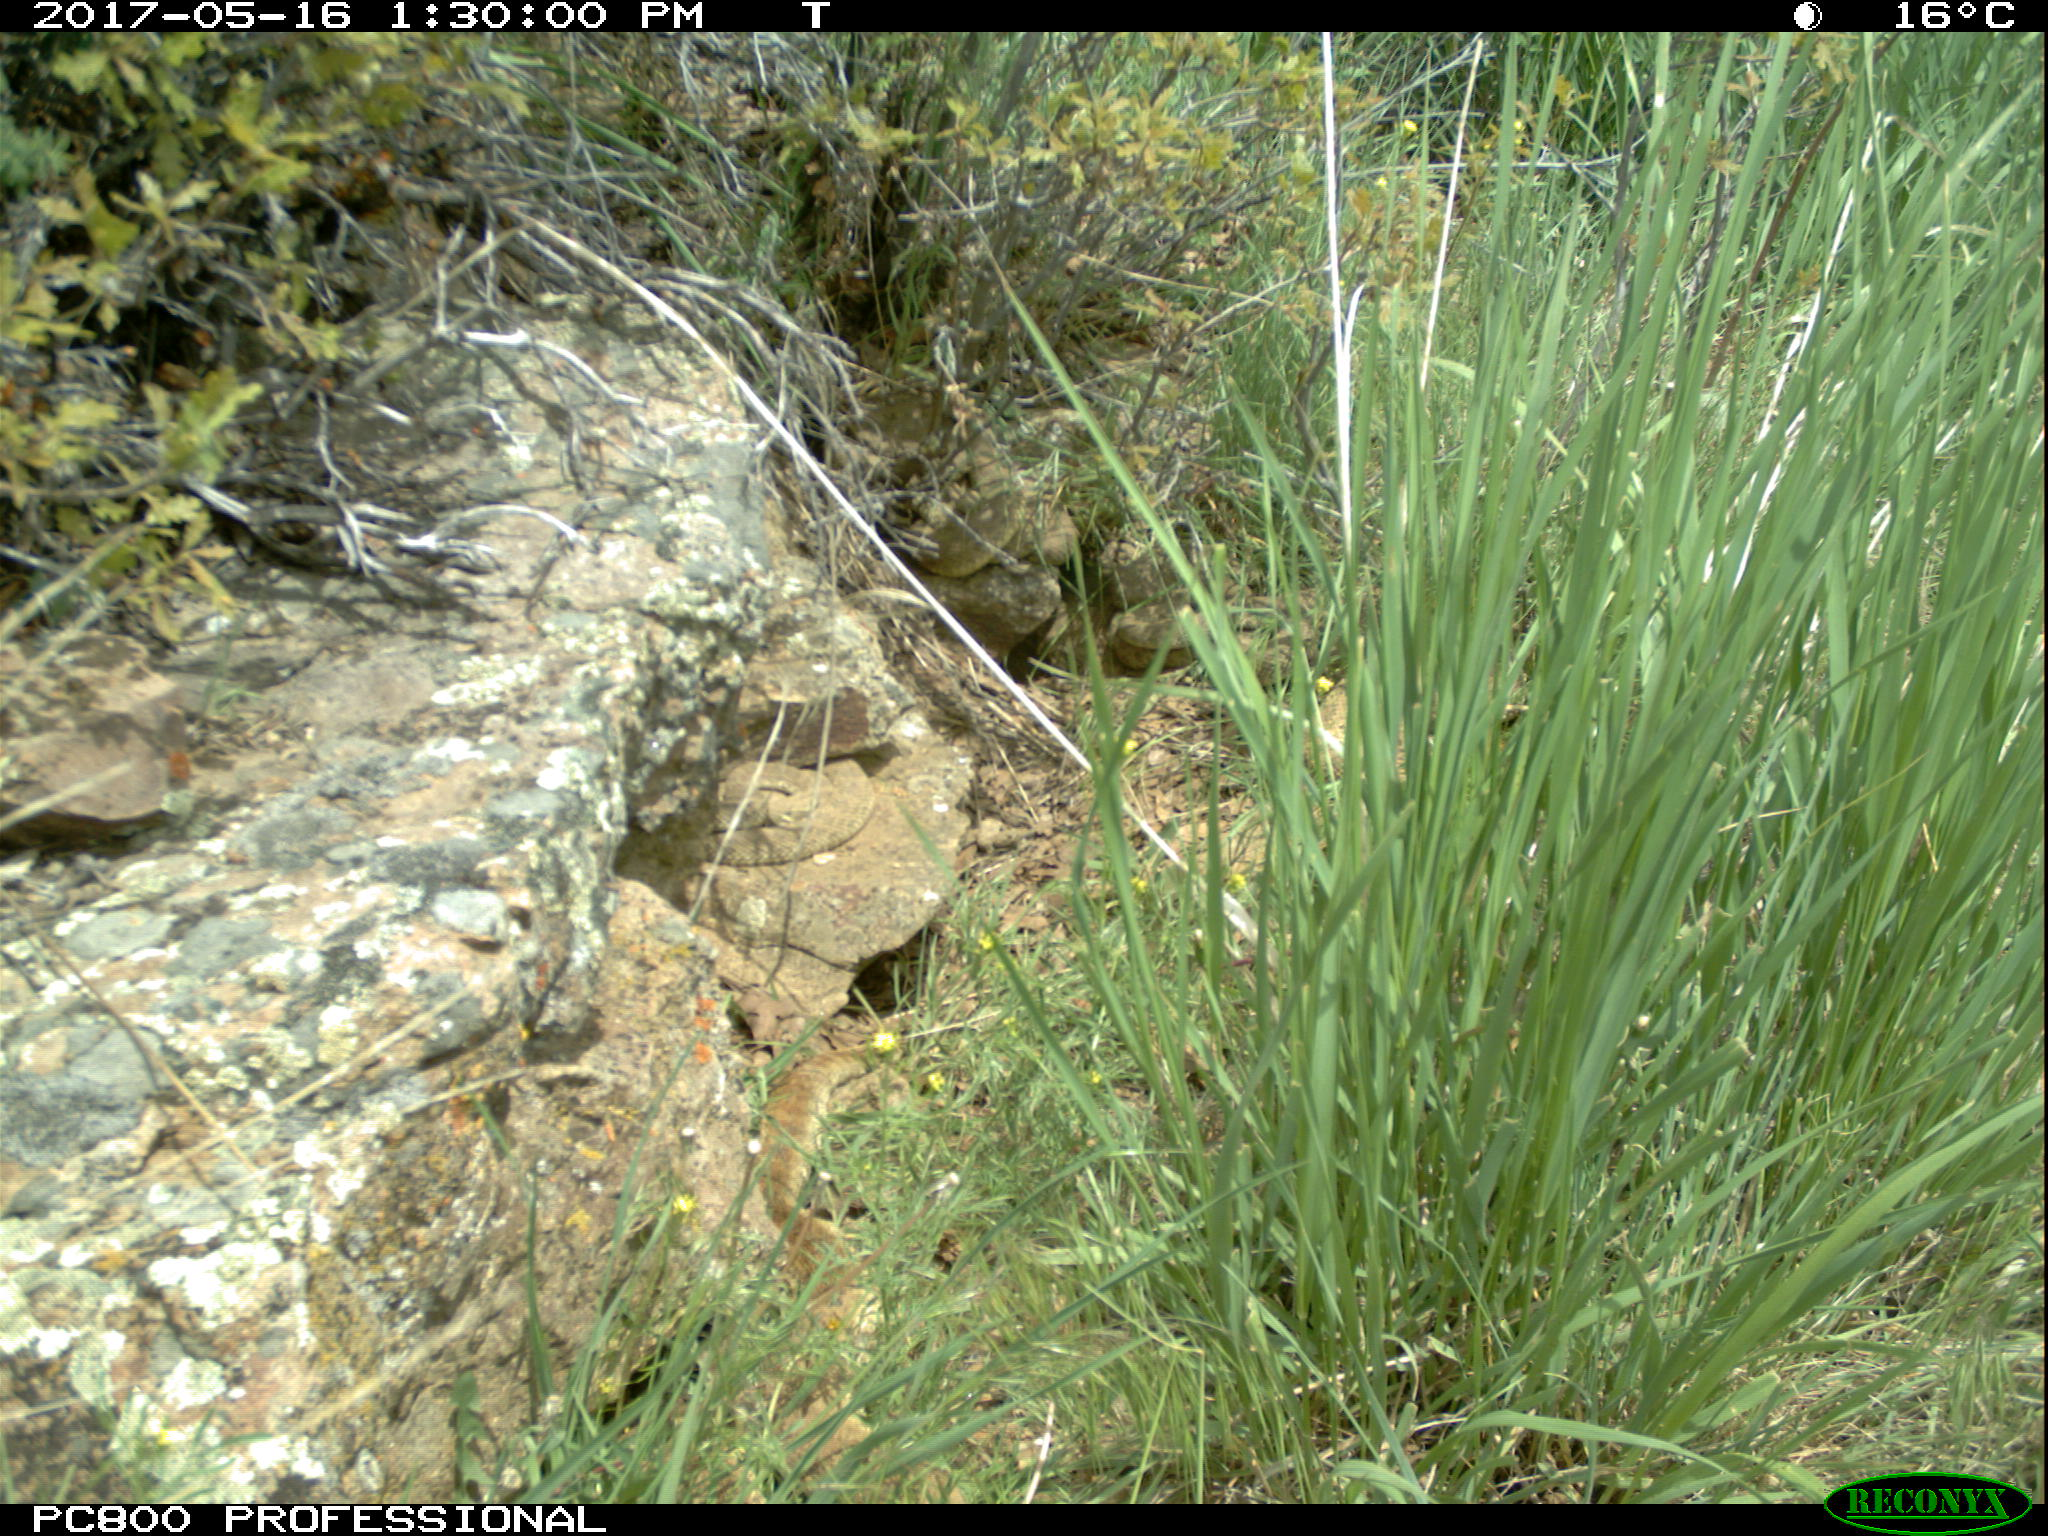snake: (751, 1054, 872, 1391), (685, 758, 876, 863), (1109, 592, 1319, 687), (905, 445, 1029, 578)
